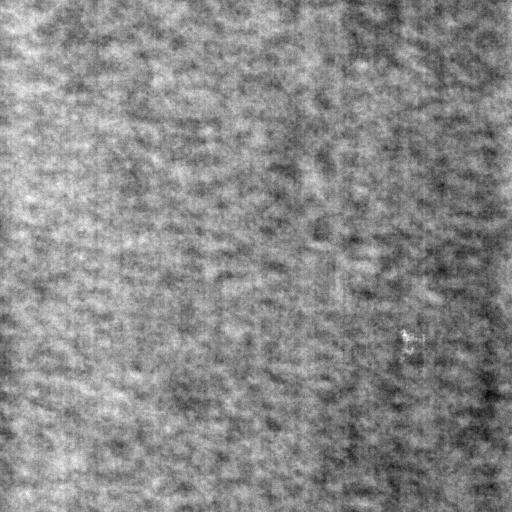DefectTypeA: (398, 325, 427, 363)
